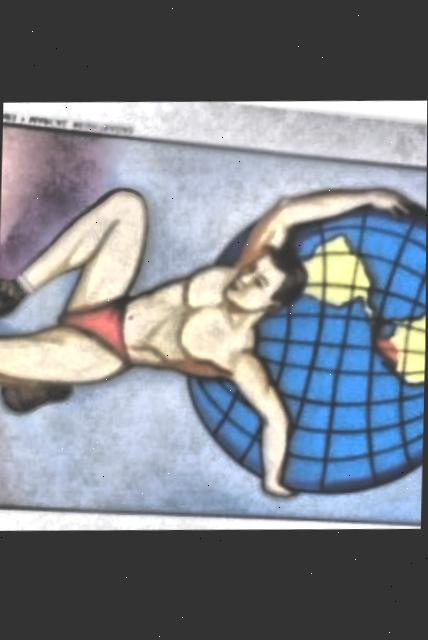El Mundo: (0, 131, 427, 526)
